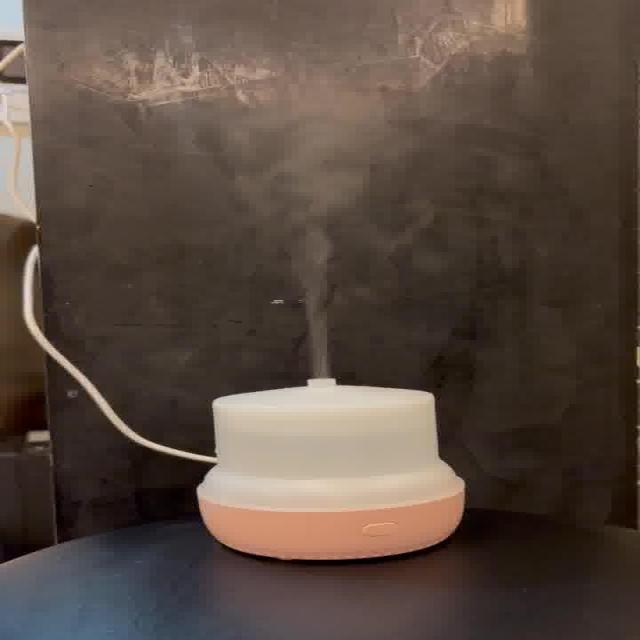fire: (206, 86, 404, 374)
